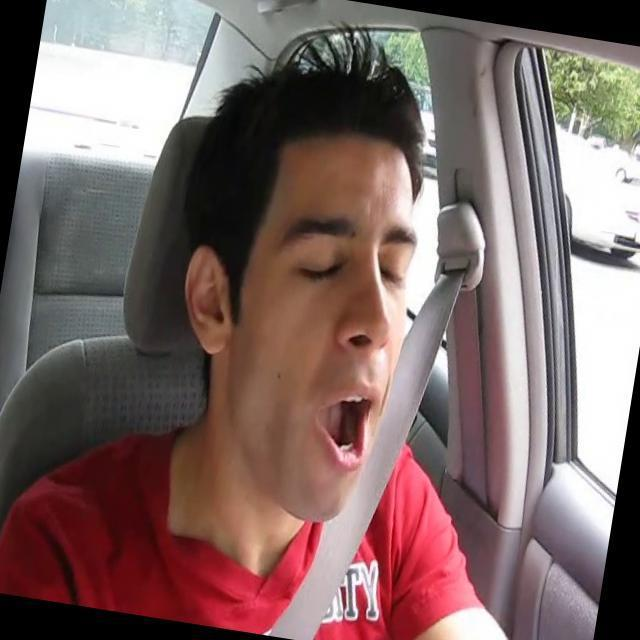open-mouth: (313, 386, 372, 466)
